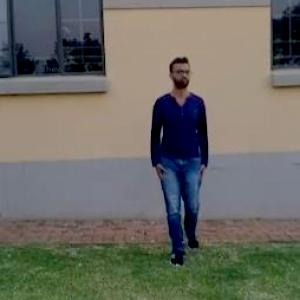follow: (142, 41, 220, 287)
